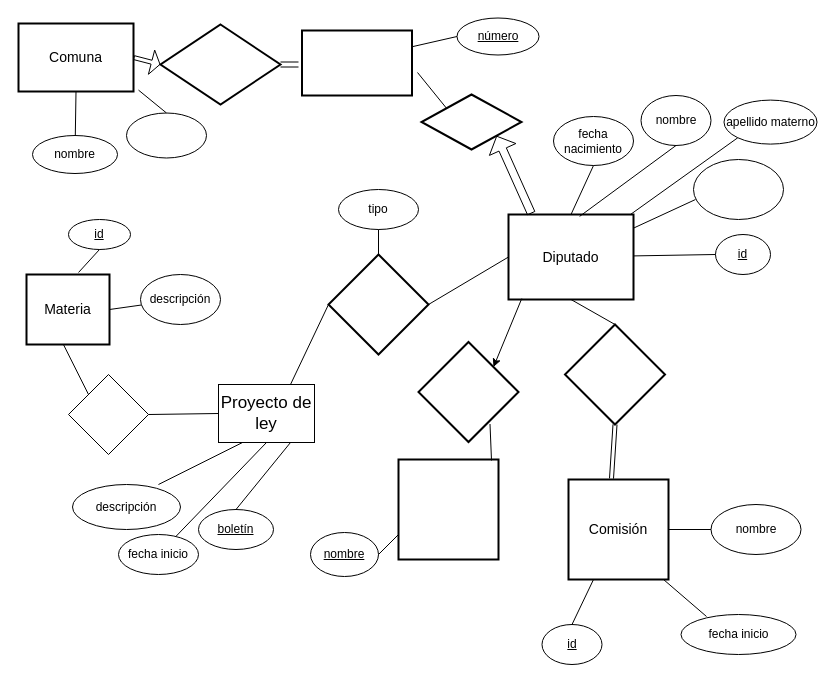
Image size: 834x682. Some labels were removed from this diagram. The shapes that lost their labels are listed below. From the top down, each one's centre as x and y in pixels, then its label:
At point (220, 64): "Compuesto de".
At point (356, 62): "Distrito".
At point (166, 135): "numero".
At point (471, 121): "Ejerce".
At point (738, 189): "apellido paterno".
At point (378, 304): "Vota".
At point (468, 391): "Inscrito".
At point (615, 374): "Participante".
At point (108, 414): "Trata sobre".
At point (448, 509): "Partido Político".
